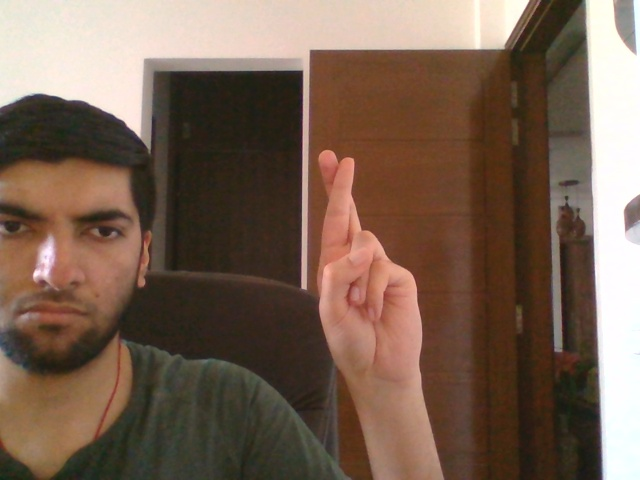LetterR: (312, 145, 426, 390)
